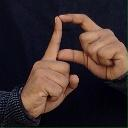hand: (20, 15, 79, 118), (55, 12, 127, 81)
